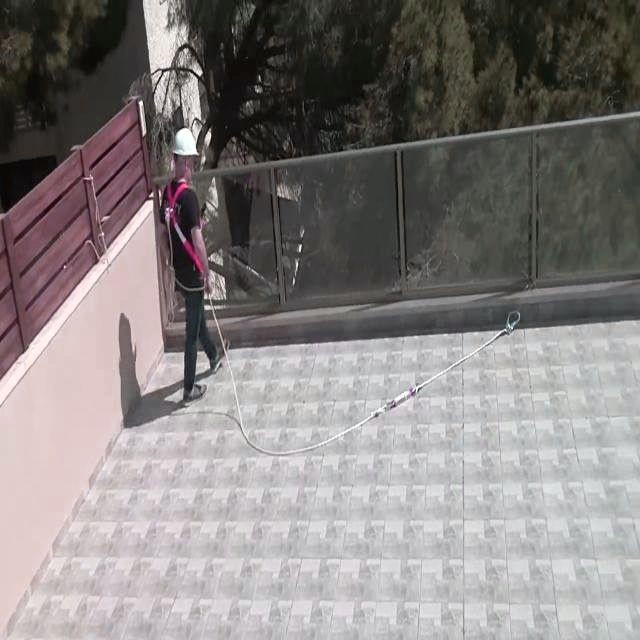safety belt: (152, 195, 241, 310)
